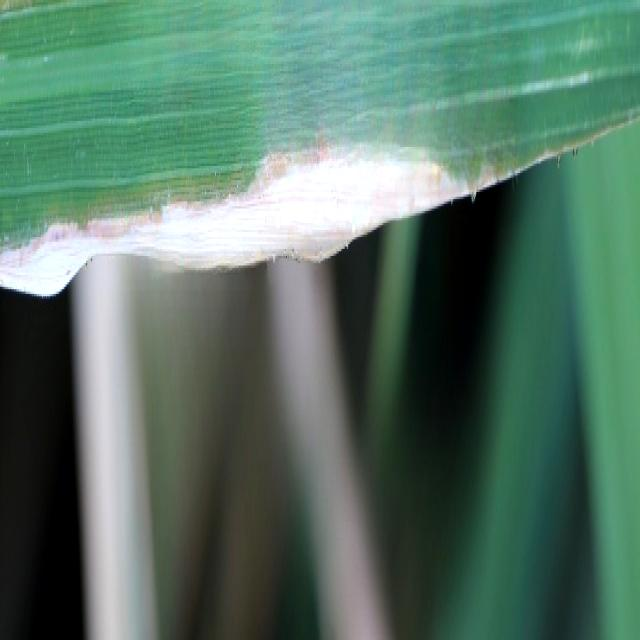BLB: (0, 140, 459, 296)
